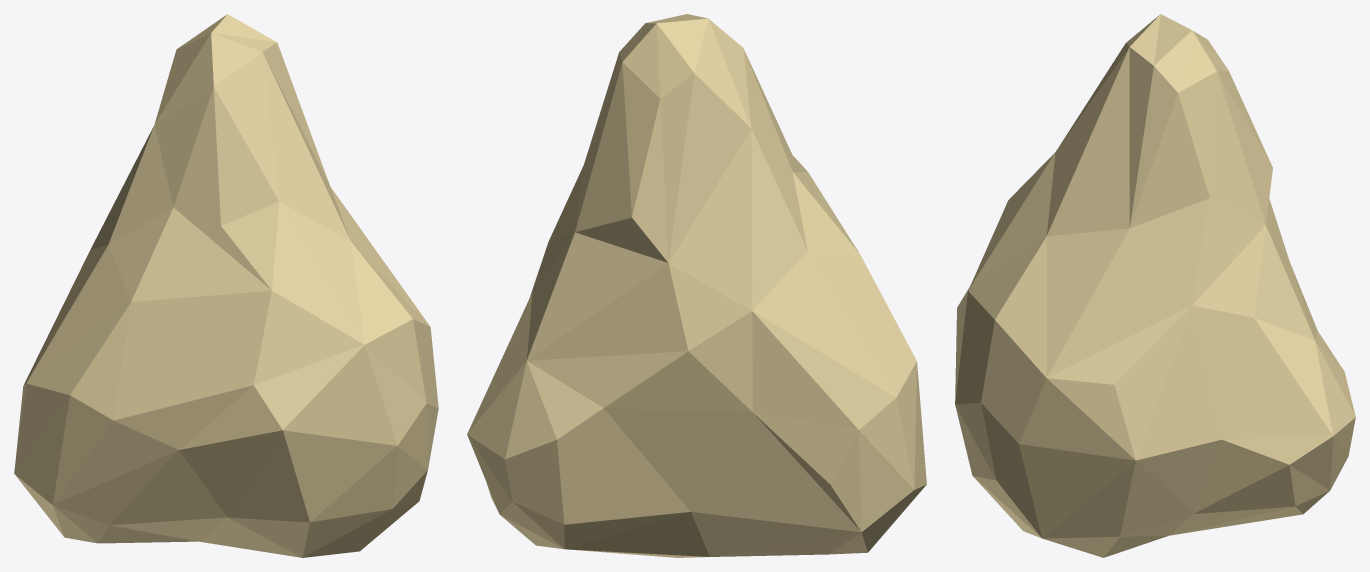
The model's file is Rock (39).fbx.
The picture shows the model from 3 angles, left to right: view 1: azimuth 30°, elevation 25°; view 2: azimuth 150°, elevation 25°; view 3: azimuth 270°, elevation 25°; orthographic projection. The views are drawn at different scales.
Parts seen in each view (by area): view 1: Asteroid38; view 2: Asteroid38; view 3: Asteroid38.
Boxes of the visible parts, x1,y1,x2,y2 form: Asteroid38: (14,14,438,557); Asteroid38: (467,14,926,557); Asteroid38: (955,14,1355,557).
Bounding box in the file's own units: 70.59 × 87.76 × 64.08.
